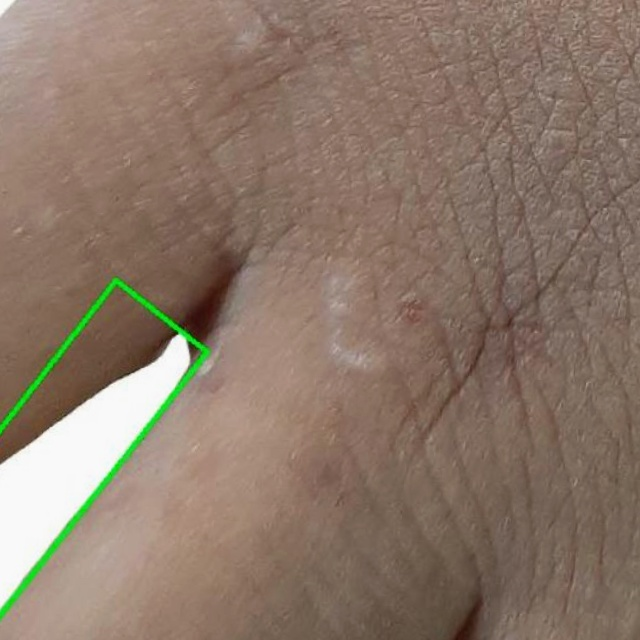Scabies: (0, 280, 215, 639)
